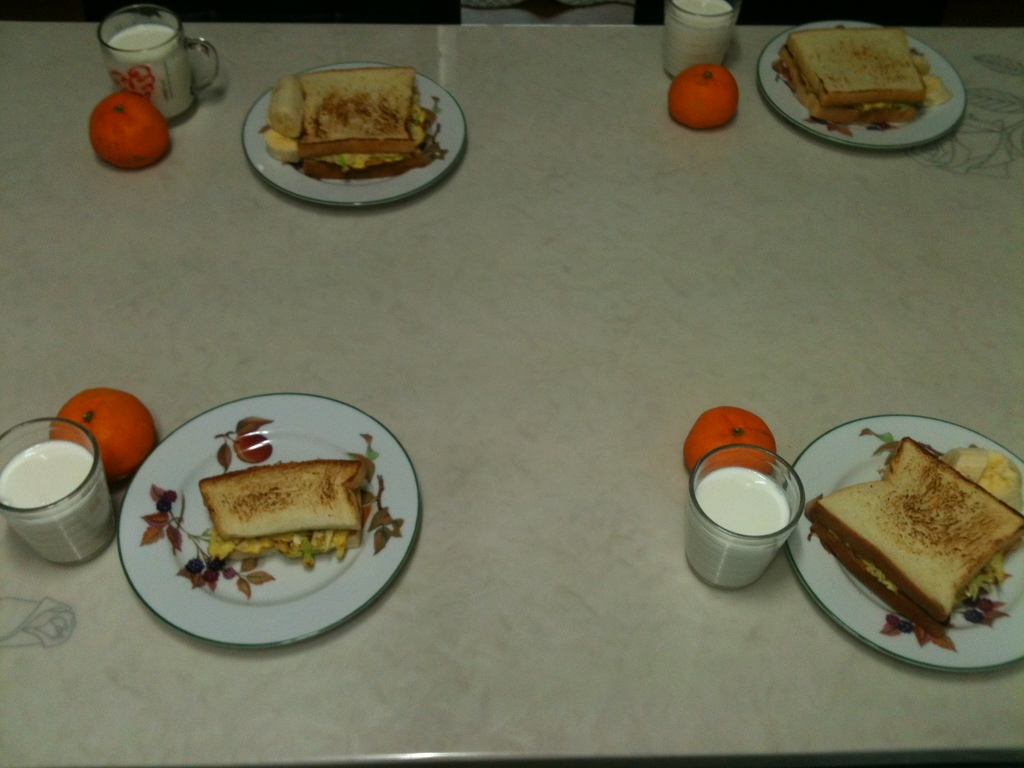plate: (105, 403, 423, 653)
